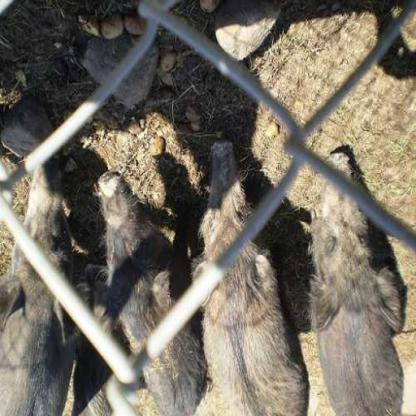boar: (196, 107, 292, 416), (305, 150, 408, 416), (86, 178, 190, 416), (0, 160, 82, 416)
